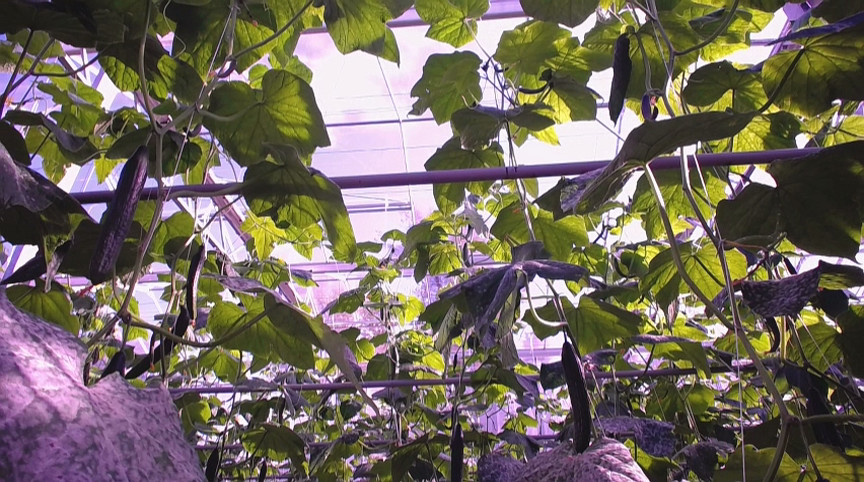cucumber: (88, 147, 152, 286), (562, 342, 592, 452), (186, 246, 208, 322), (450, 424, 465, 482)
